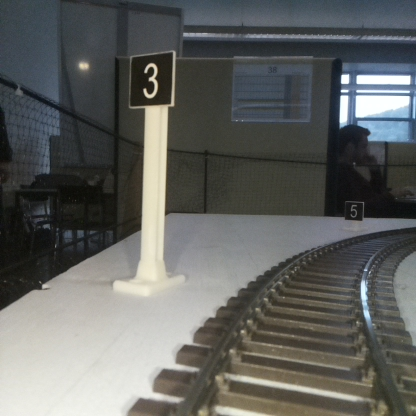black-info-3: (130, 52, 172, 290)
black-stop-5: (345, 202, 363, 229)
